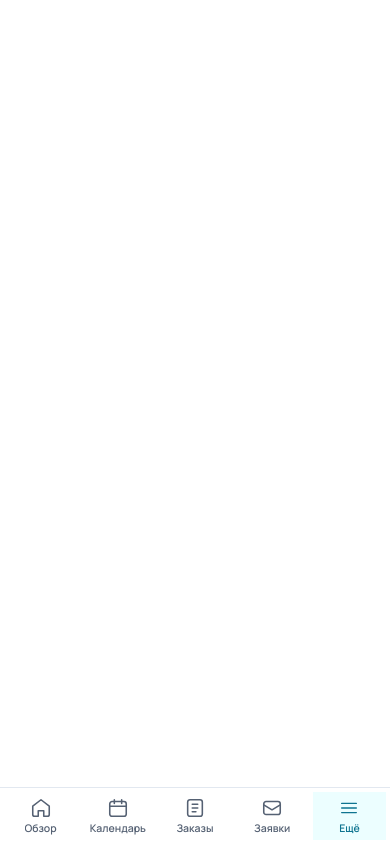
Test: Нижняя панель вкладок › во вкладках стоят первые разделы, остальные уходят за «Ещё»
The image size is (390, 844).
expect the link "Обзор" is shown: met, box [25,797,57,835]
expect the link "Календарь" is shown: met, box [90,797,146,835]
What coordinates should you click on to do the following:
click the button "Ещё"
I would click on:
 (349, 816)
Its box is [313,792,386,840].
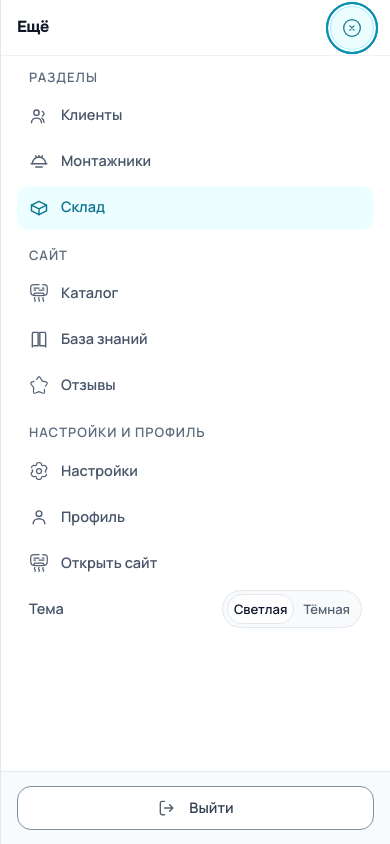
expect the link "Клиенты" is shown: met, box [29,105,122,126]
expect the link "Монтажники" is shown: met, box [29,151,151,172]
expect the link "Склад" is shown: met, box [17,186,374,230]
